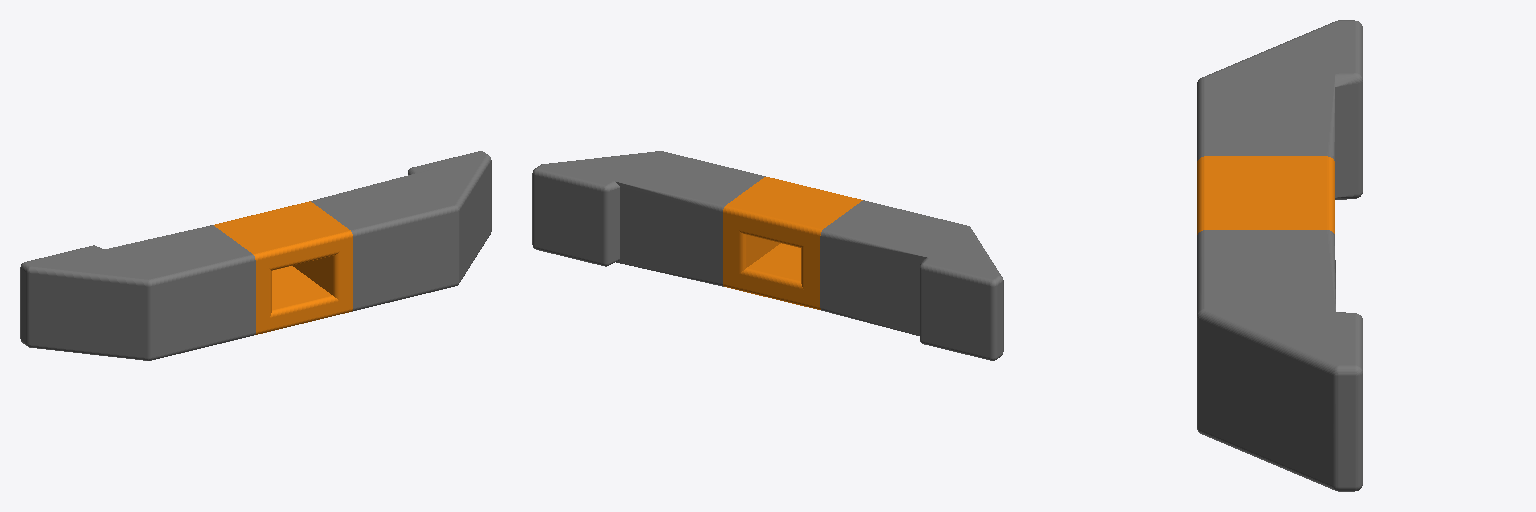
robot.urdf — beam_3x_1_sdf_hybrid:
<?xml version="1.0" encoding="utf-8"?>
<robot name="beam_3x_1_sdf_hybrid">
  <link name="base_link">
    <inertial>
      <mass value="0.05"/>
      <inertia ixx="1e-5" ixy="0" ixz="0" iyy="1e-5" iyz="0" izz="1e-5"/>
    </inertial>
  </link>
  <material name="tip">
    <color rgba="0.95 0.55 0.10 1.0"/>
  </material>
  <material name="body">
    <color rgba="0.50 0.50 0.50 1.0"/>
  </material>
  <link name="tip_link">
    <visual>
      <origin xyz="0.000000 0.000000 0.000000" rpy="0.000000 0.000000 0.000000"/>
      <geometry>
        <mesh filename="1_tip.obj" scale="1 1 1"/>
      </geometry>
      <material name="tip"/>
    </visual>
    <collision>
      <origin xyz="0.000000 0.000000 0.000000" rpy="0.000000 0.000000 0.000000"/>
      <geometry>
        <mesh filename="1_tip.obj" scale="1 1 1"/>
      </geometry>
      <sdf resolution="256"/>
    </collision>
  </link>
  <joint name="base_to_tip" type="fixed">
    <parent link="base_link"/>
    <child link="tip_link"/>
    <origin xyz="0 0 0" rpy="0 0 0"/>
  </joint>
  <link name="body_link">
    <visual>
      <origin xyz="0.000000 0.000000 0.000000" rpy="0.000000 0.000000 0.000000"/>
      <geometry>
        <mesh filename="coacd/decomp_0.obj" scale="1 1 1"/>
      </geometry>
      <material name="body"/>
    </visual>
    <collision>
      <origin xyz="0.000000 0.000000 0.000000" rpy="0.000000 0.000000 0.000000"/>
      <geometry>
        <mesh filename="coacd/decomp_0.obj" scale="1 1 1"/>
      </geometry>
    </collision>
    <visual>
      <origin xyz="0.000000 0.000000 0.000000" rpy="0.000000 0.000000 0.000000"/>
      <geometry>
        <mesh filename="coacd/decomp_1.obj" scale="1 1 1"/>
      </geometry>
      <material name="body"/>
    </visual>
    <collision>
      <origin xyz="0.000000 0.000000 0.000000" rpy="0.000000 0.000000 0.000000"/>
      <geometry>
        <mesh filename="coacd/decomp_1.obj" scale="1 1 1"/>
      </geometry>
    </collision>
    <visual>
      <origin xyz="0.000000 0.000000 0.000000" rpy="0.000000 0.000000 0.000000"/>
      <geometry>
        <mesh filename="coacd/decomp_2.obj" scale="1 1 1"/>
      </geometry>
      <material name="body"/>
    </visual>
    <collision>
      <origin xyz="0.000000 0.000000 0.000000" rpy="0.000000 0.000000 0.000000"/>
      <geometry>
        <mesh filename="coacd/decomp_2.obj" scale="1 1 1"/>
      </geometry>
    </collision>
    <visual>
      <origin xyz="0.000000 0.000000 0.000000" rpy="0.000000 0.000000 0.000000"/>
      <geometry>
        <mesh filename="coacd/decomp_3.obj" scale="1 1 1"/>
      </geometry>
      <material name="body"/>
    </visual>
    <collision>
      <origin xyz="0.000000 0.000000 0.000000" rpy="0.000000 0.000000 0.000000"/>
      <geometry>
        <mesh filename="coacd/decomp_3.obj" scale="1 1 1"/>
      </geometry>
    </collision>
  </link>
  <joint name="base_to_body" type="fixed">
    <parent link="base_link"/>
    <child link="body_link"/>
    <origin xyz="0 0 0" rpy="0 0 0"/>
  </joint>
</robot>

--- What the picture shows (computed from the rendered views, not written in the file) ---
The picture shows the robot from 3 angles, left to right: view 1: azimuth 30°, elevation 25°; view 2: azimuth 150°, elevation 25°; view 3: azimuth 270°, elevation 25°; orthographic projection.
Robot: beam_3x_1_sdf_hybrid — 3 links, 2 joints (2 fixed); root link base_link; default pose: every joint at zero.
Links seen in each view (by area): view 1: body_link, tip_link; view 2: body_link, tip_link; view 3: body_link, tip_link.
Boxes of the visible links, box(x1,y1,x2,y2) form: body_link: box(20, 151, 491, 360); tip_link: box(214, 201, 352, 334); body_link: box(532, 151, 1003, 360); tip_link: box(723, 177, 862, 309); body_link: box(1197, 20, 1362, 491); tip_link: box(1197, 156, 1334, 234).
Bounding box of the posed robot: 0.2286 × 0.0457 × 0.0381 m (x, y, z).
Meshes: 5 distinct files referenced, 5 mesh visuals loaded (5 OBJ).
